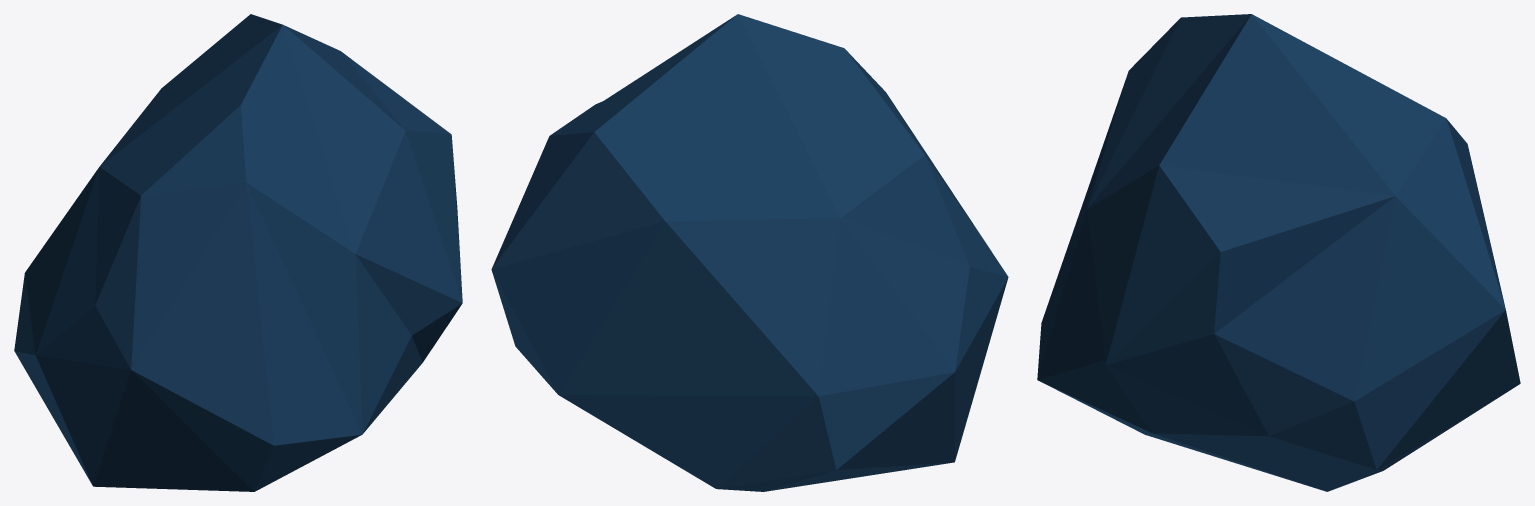
File: Rock_1_MY (2).fbx
3 renders of one model, left to right at view 1: azimuth 30°, elevation 25°; view 2: azimuth 150°, elevation 25°; view 3: azimuth 270°, elevation 25°, orthographic. The views are drawn at different scales.
Parts seen in each view (by area): view 1: Rock 1; view 2: Rock 1; view 3: Rock 1.
Part boxes in pixels (left/top/right/bottom): Rock 1: left=14, top=14, right=462, bottom=491; Rock 1: left=491, top=14, right=1008, bottom=491; Rock 1: left=1037, top=14, right=1520, bottom=491.
Size of the model in its own units: 317 by 299 by 291.
